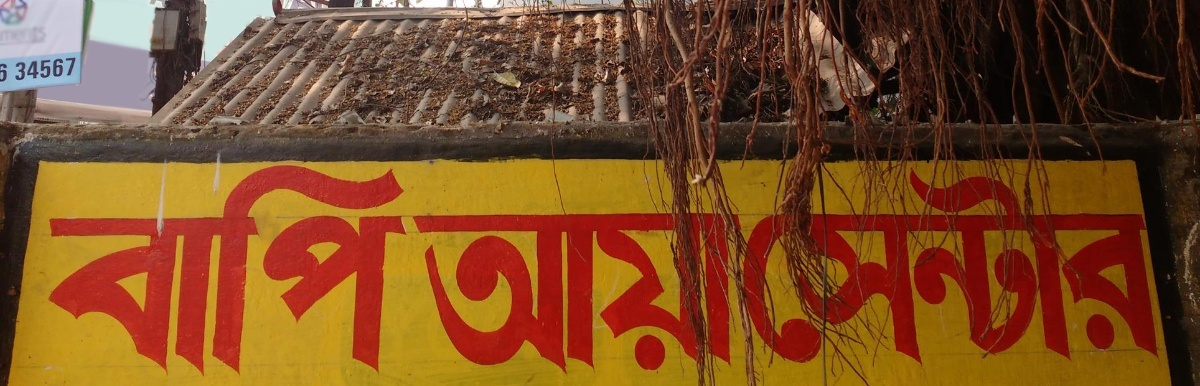text: (49, 162, 64, 382), (65, 162, 80, 382), (81, 162, 96, 382), (97, 162, 112, 382), (113, 162, 128, 382), (129, 162, 144, 382), (145, 162, 160, 382), (161, 162, 176, 382), (177, 162, 192, 382), (193, 162, 208, 382), (209, 162, 224, 382), (225, 162, 240, 382), (241, 162, 256, 382), (257, 162, 272, 382), (273, 162, 288, 382), (289, 162, 304, 382), (305, 162, 320, 382), (321, 162, 336, 382), (337, 162, 352, 382), (353, 162, 368, 382), (369, 162, 384, 382), (385, 162, 400, 382), (737, 165, 752, 377), (753, 165, 768, 377), (769, 165, 784, 377), (785, 165, 800, 377), (801, 165, 816, 377), (817, 165, 832, 377), (833, 165, 848, 377), (849, 165, 864, 377), (865, 165, 880, 377), (881, 165, 896, 377), (897, 165, 912, 377), (913, 165, 928, 377), (929, 165, 944, 377), (945, 165, 960, 377), (961, 165, 976, 377), (977, 165, 992, 377), (993, 165, 1008, 377), (1009, 165, 1024, 377), (1025, 165, 1040, 377), (1041, 165, 1056, 377), (1057, 165, 1072, 377), (1073, 165, 1088, 377), (1089, 165, 1104, 377), (1105, 165, 1120, 377), (1121, 165, 1136, 377), (1137, 165, 1152, 377), (1153, 165, 1168, 377), (401, 162, 415, 382), (417, 196, 432, 382), (433, 196, 448, 382), (449, 196, 464, 382), (465, 196, 480, 382), (481, 196, 496, 382), (497, 196, 512, 382), (513, 196, 528, 382), (529, 196, 544, 382), (545, 196, 560, 382), (561, 196, 576, 382), (577, 196, 592, 382), (593, 196, 608, 382), (609, 196, 624, 382), (625, 196, 640, 382), (641, 196, 656, 382), (657, 196, 672, 382), (673, 196, 688, 382), (689, 196, 704, 382), (705, 196, 720, 382), (721, 196, 736, 382), (737, 196, 747, 382), (411, 196, 416, 382), (65, 54, 81, 85), (17, 54, 32, 85), (33, 54, 48, 85), (49, 54, 64, 85), (1169, 165, 1171, 377), (2, 60, 16, 87), (13, 54, 16, 85)
